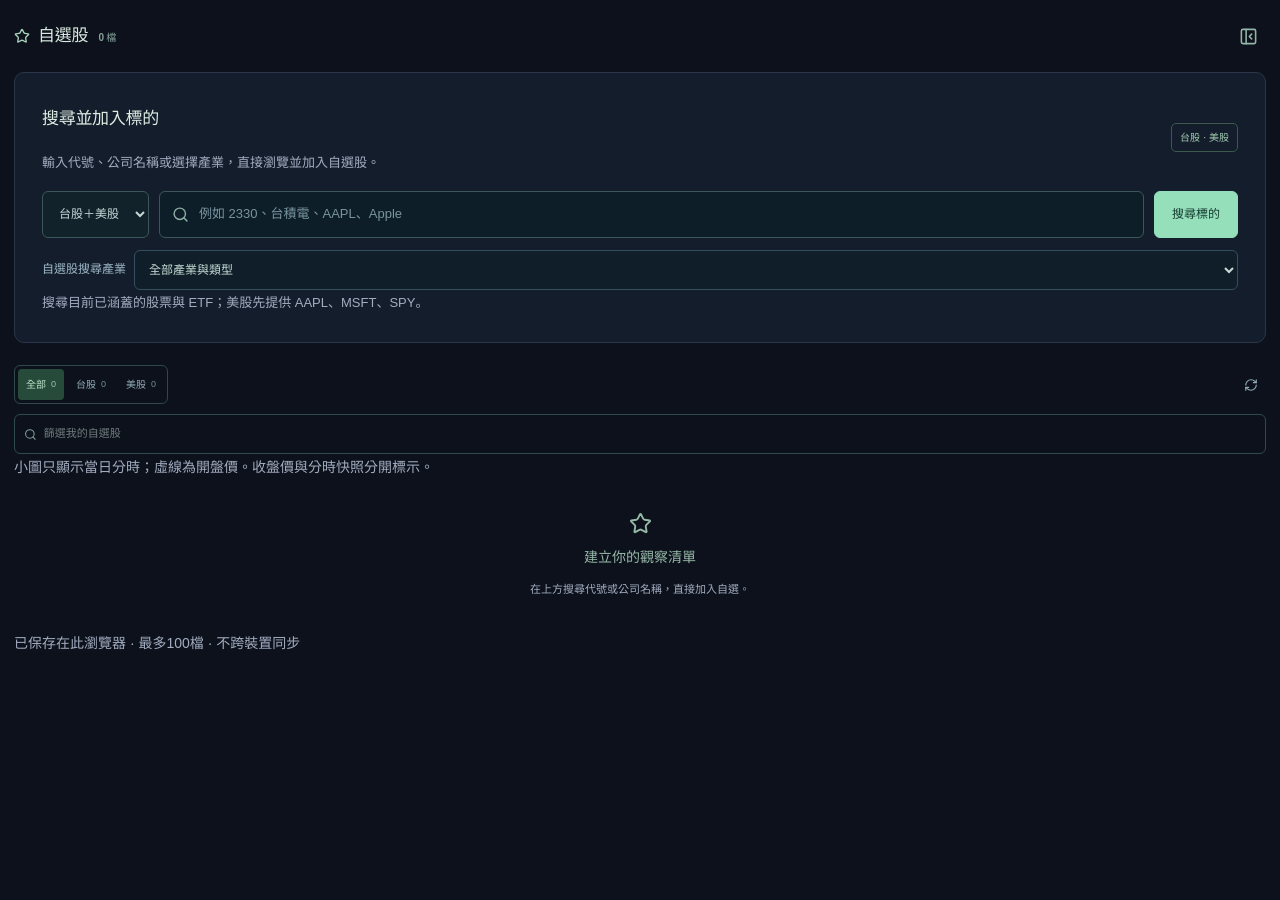
Test: does not save unknown targets and supports keyboard submit and clear
Click the button "搜尋標的": (1196, 214) [1154,191,1238,238]
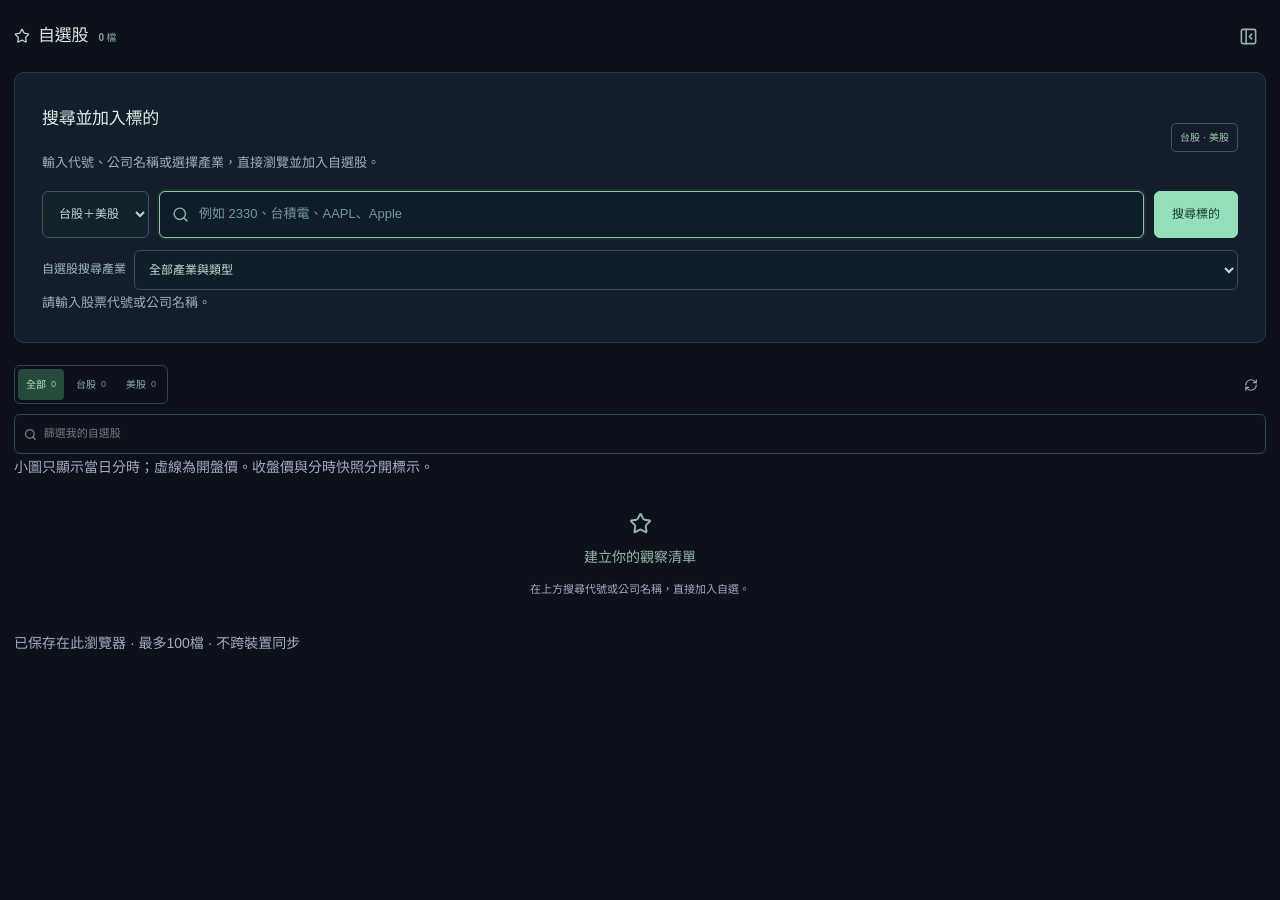
expect the text "請輸入股票代號或公司名稱。" is shown: met, box [42,295,211,310]
In the search field named "搜尋標的代號或公司名稱": (665, 214) [199,192,1131,237], type "NOT-A-REAL-STOCK"
Then press Enter
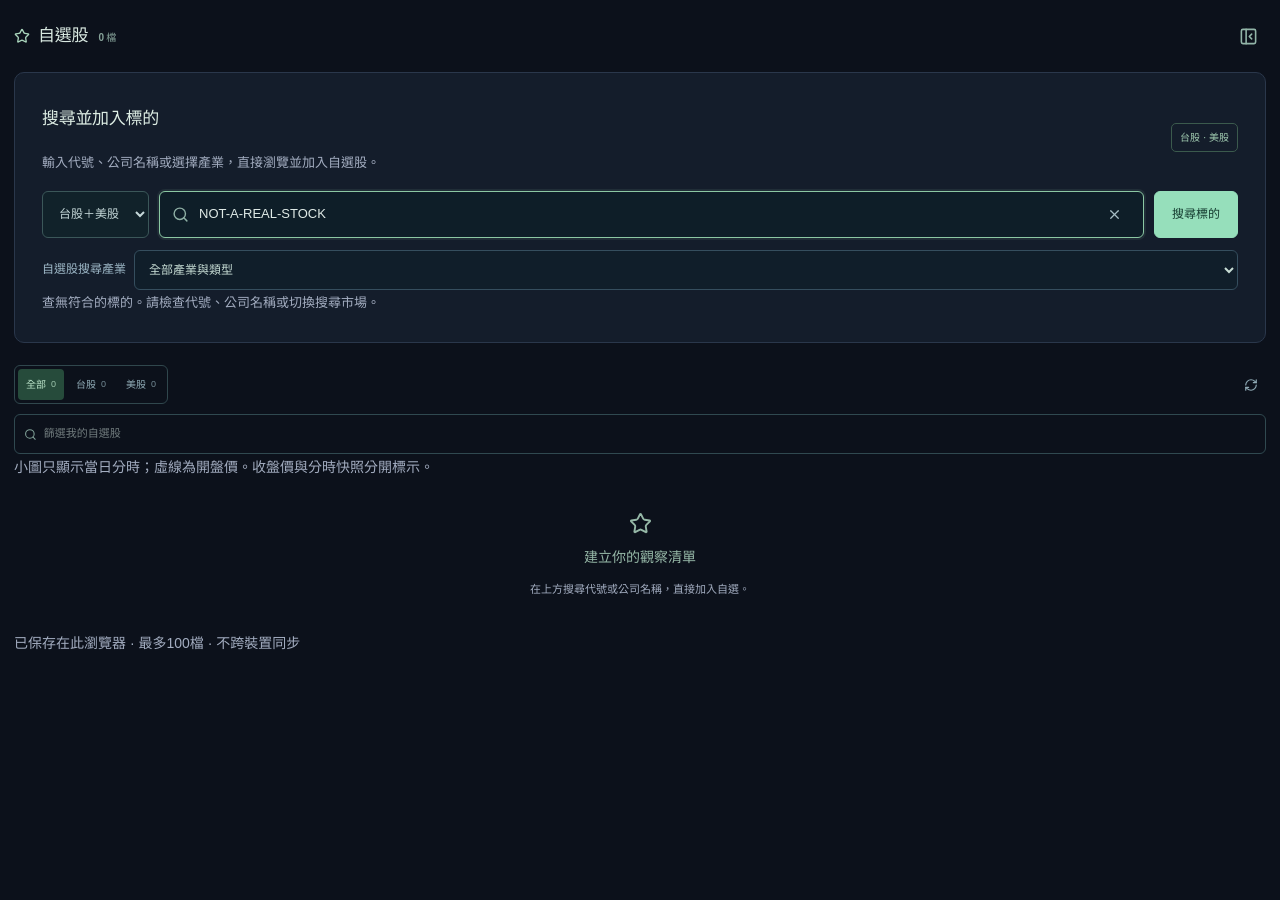
expect the button named "重新整理自選股資料" is enabled: met, box [1236,371,1266,399]
expect the text "查無符合的標的。請檢查代號、公司名稱或切換搜尋市場。" is shown: met, box [42,295,380,310]
Click the button named "清除標的搜尋": (1115, 214) [1099,196,1131,232]
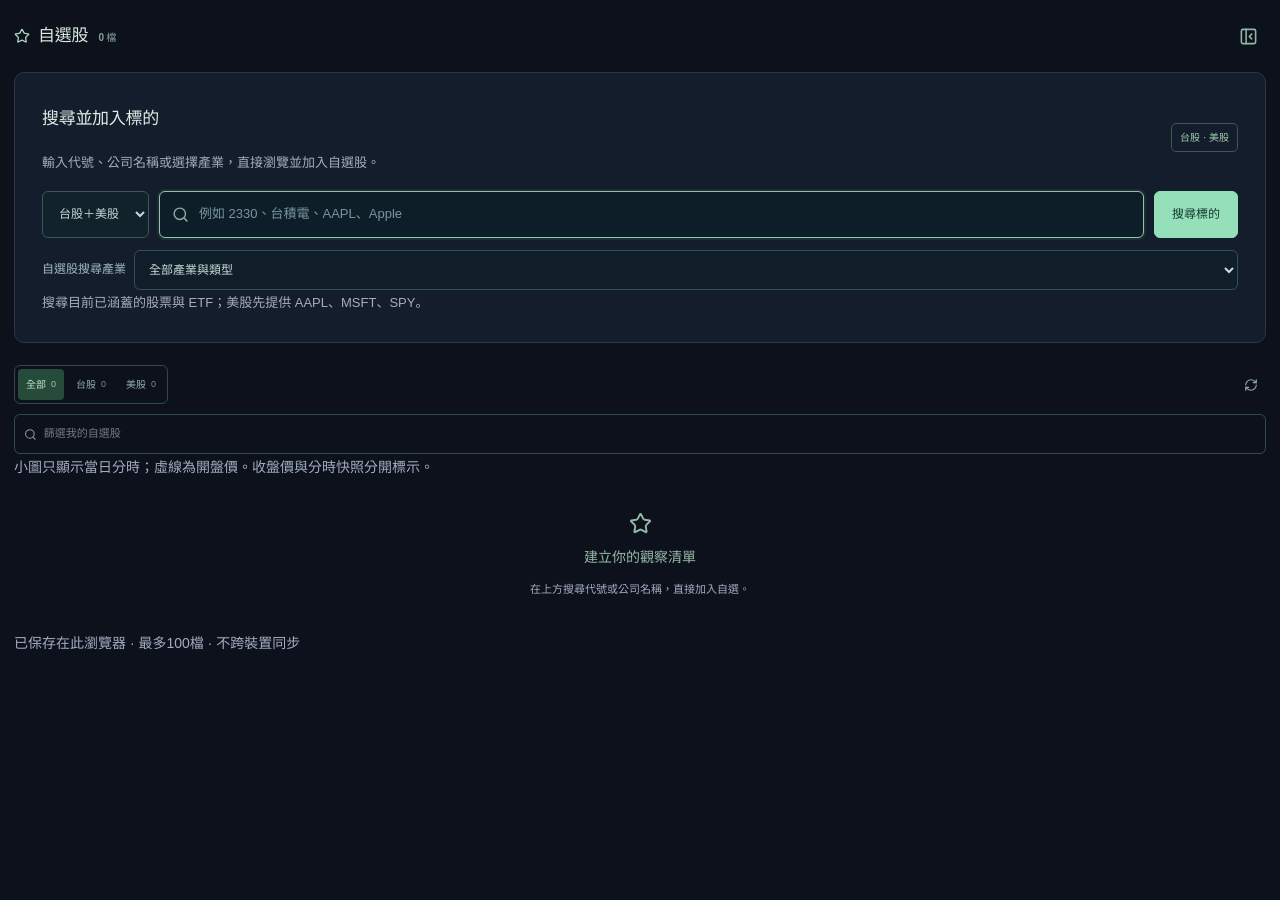
expect the search field named "搜尋標的代號或公司名稱" is empty: met, box [199,192,1131,237]
